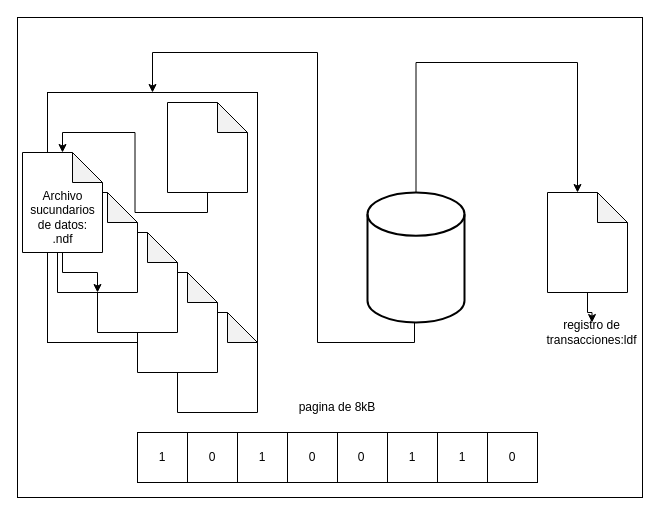
The diagram is 660 pixels wide and 515 high, and some of its shapes have lost their labels. The centre of each missing label's shape, as x and y in pixels:
Archivo primario de datos: .mdf: the point at 207,147
DATABASE: the point at 415,257
